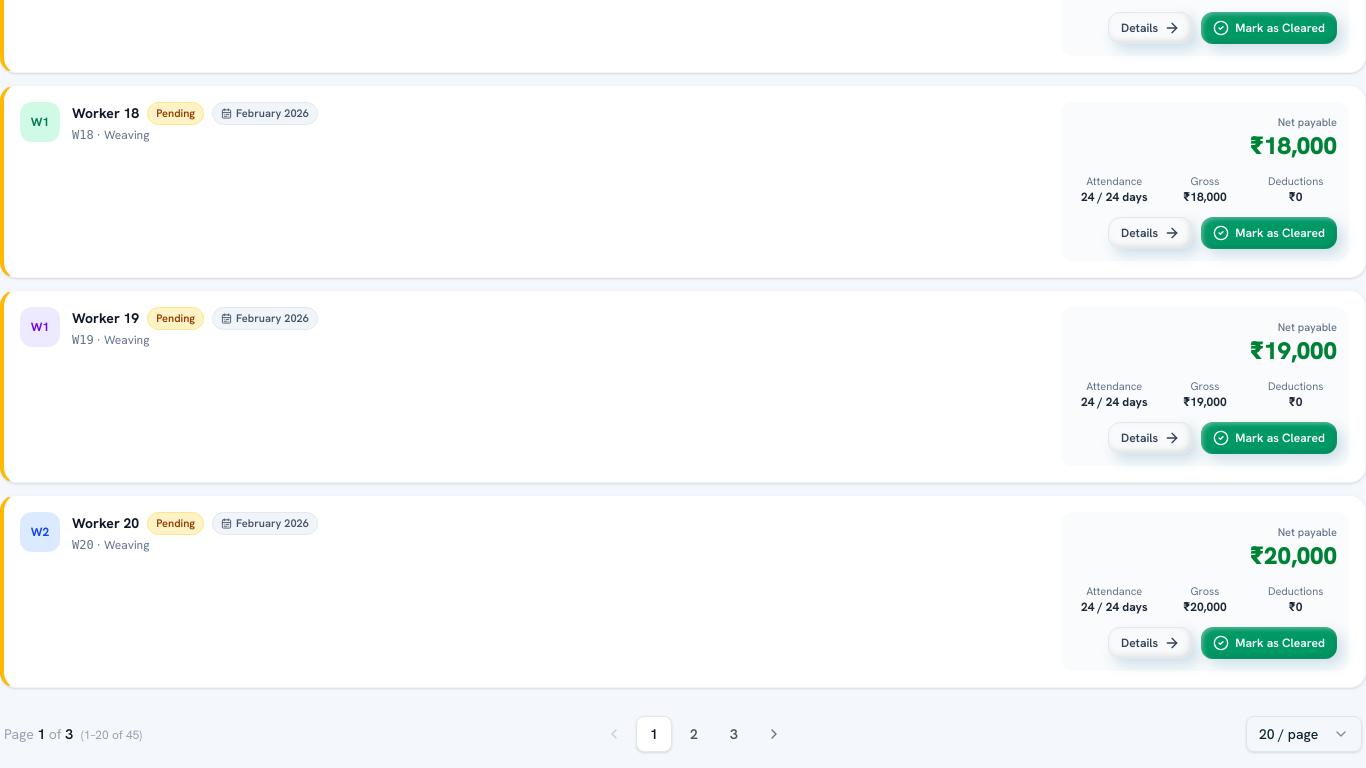
Test case: paging › starts again from the top when the list gets shorter, never on a page that no longer exists
(page scrolled)
Click the button named "Page 3".
click(734, 734)  # box [716, 716, 752, 752]
(page scrolled)
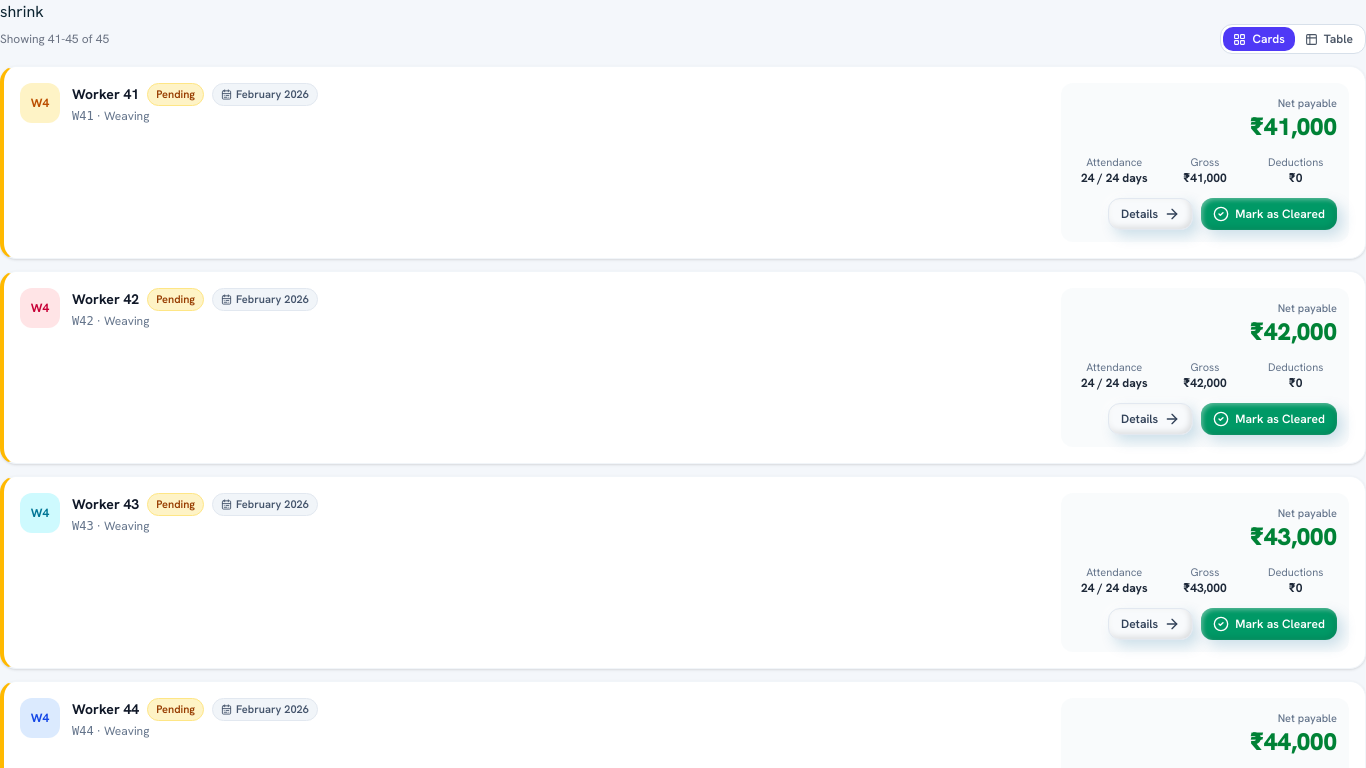
Click the button "shrink".
click(22, 12)  # box [0, 0, 44, 24]
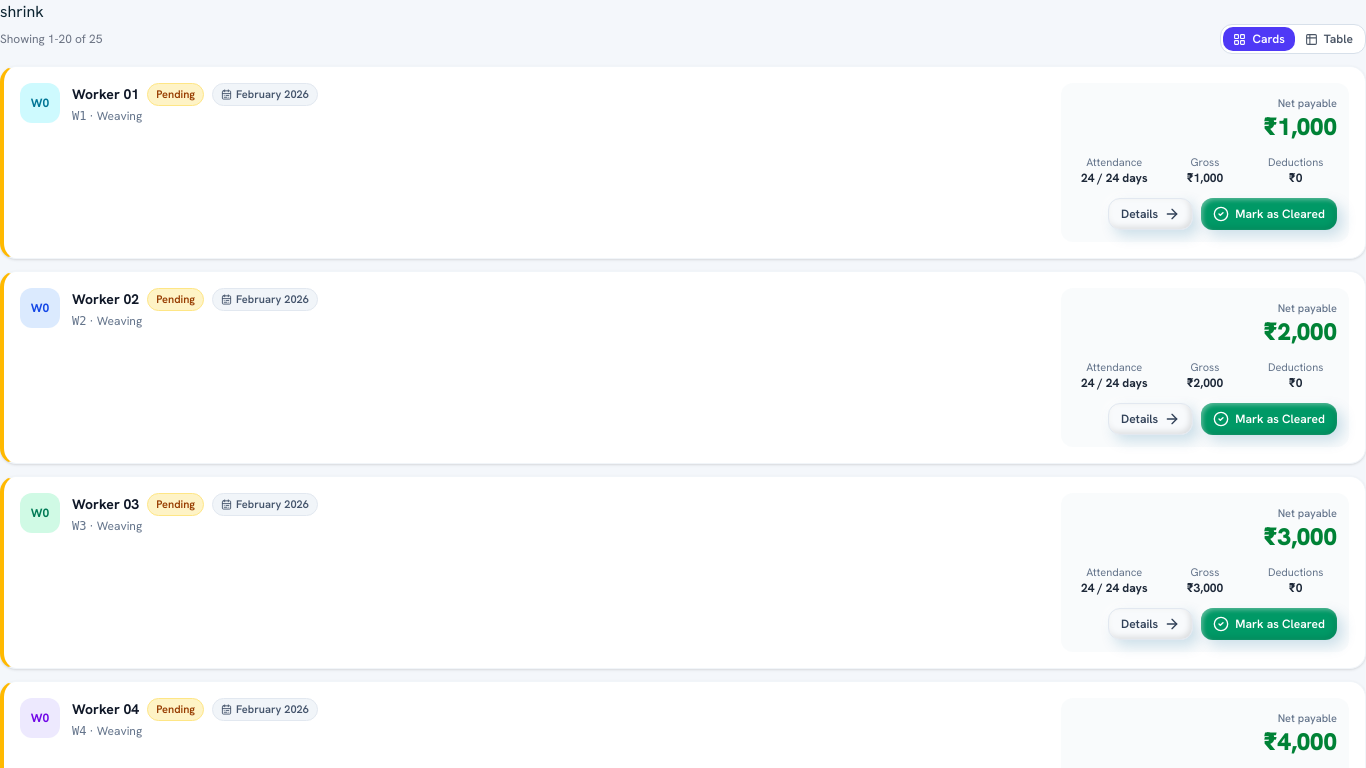
Now the text "Showing 1-20 of 25" is shown, box [0, 31, 102, 47]
